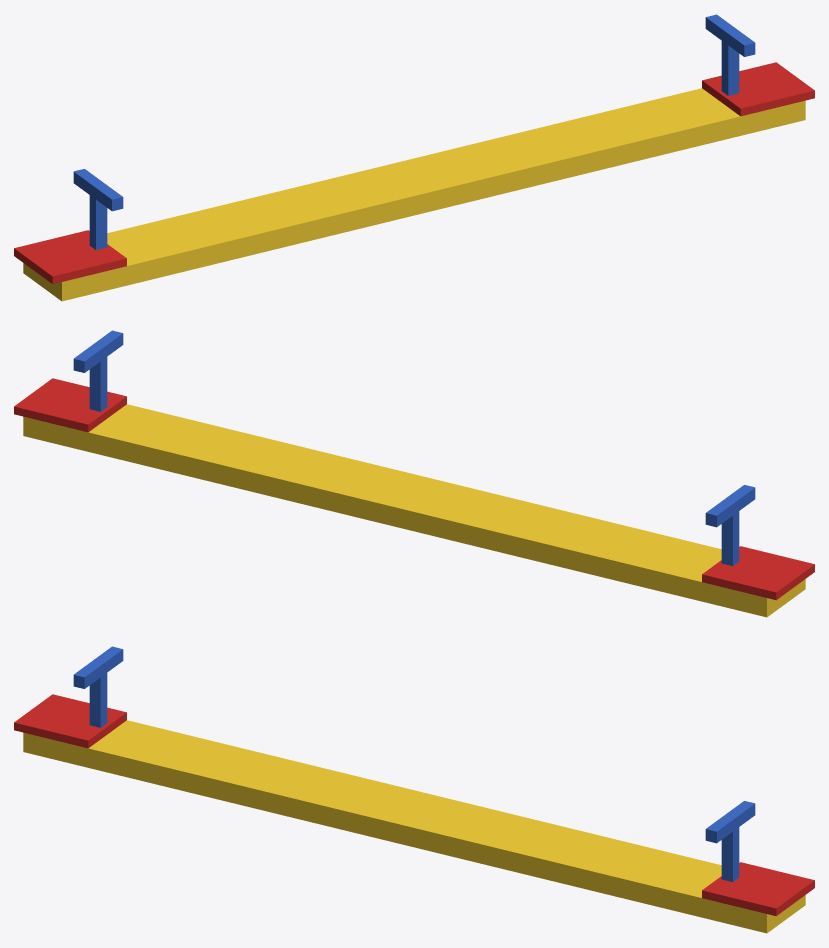
Rendered from p_seesaw.glb.
3 views of the same model, one above another, from view 1: azimuth 30°, elevation 25°; view 2: azimuth 150°, elevation 25°; view 3: azimuth 330°, elevation 25° (orthographic).
Parts seen in each view (by area): view 1: seesaw; view 2: seesaw; view 3: seesaw.
Part boxes in pixels (x1,y1,x2,y2): seesaw: (14,14,814,301); seesaw: (14,330,814,617); seesaw: (14,646,814,933).
Bounding box in the file's own units: 4.1 × 0.46 × 0.36.
